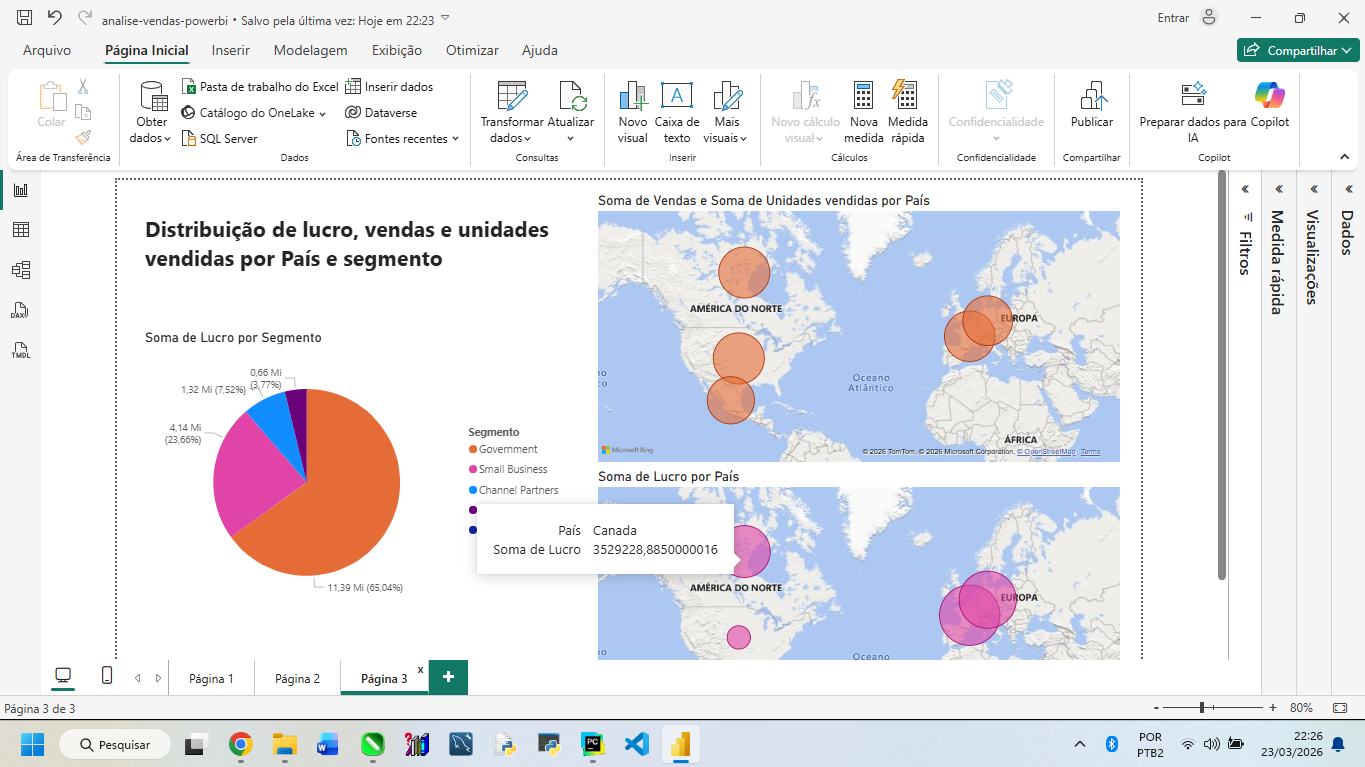

Layout of this report page (visuals, bound fields, positions):
{"tool":"powerbi","page":{"name":"Página 3","canvas":[1280,720],"ordinal":2},"visuals":[{"type":"pieChart","fields":{"Category":["Sheet1.Segment"],"Y":["Sum(Sheet1.Profit)"]},"box":[29.9,186.7,536.3,364.5],"z":0},{"type":"map","fields":{"Size":["Sum(Sheet1. Sales)"],"Category":["Sheet1.Country"]},"box":[596,14.9,663.2,342.1],"z":1000},{"type":"map","fields":{"Size":["Sum(Sheet1.Profit)"],"Category":["Sheet1.Country"]},"box":[596,360,663.2,349.5],"z":2000},{"type":"textbox","box":[29.9,37.3,536.3,95.6],"z":3000}]}

Visuals, with their boxes on the page's 1280x720 design canvas (x1, y1, x2, y2). These are canvas units, not pixel positions in the 1365x767 screenshot, which may show the page scaled, cropped or inside an application window:
pieChart - Sheet1.Segment x Sum(Sheet1.Profit): locate(30, 187, 566, 551)
map - Sum(Sheet1. Sales) x Sheet1.Country: locate(596, 15, 1259, 357)
map - Sum(Sheet1.Profit) x Sheet1.Country: locate(596, 360, 1259, 710)
textbox: locate(30, 37, 566, 133)
